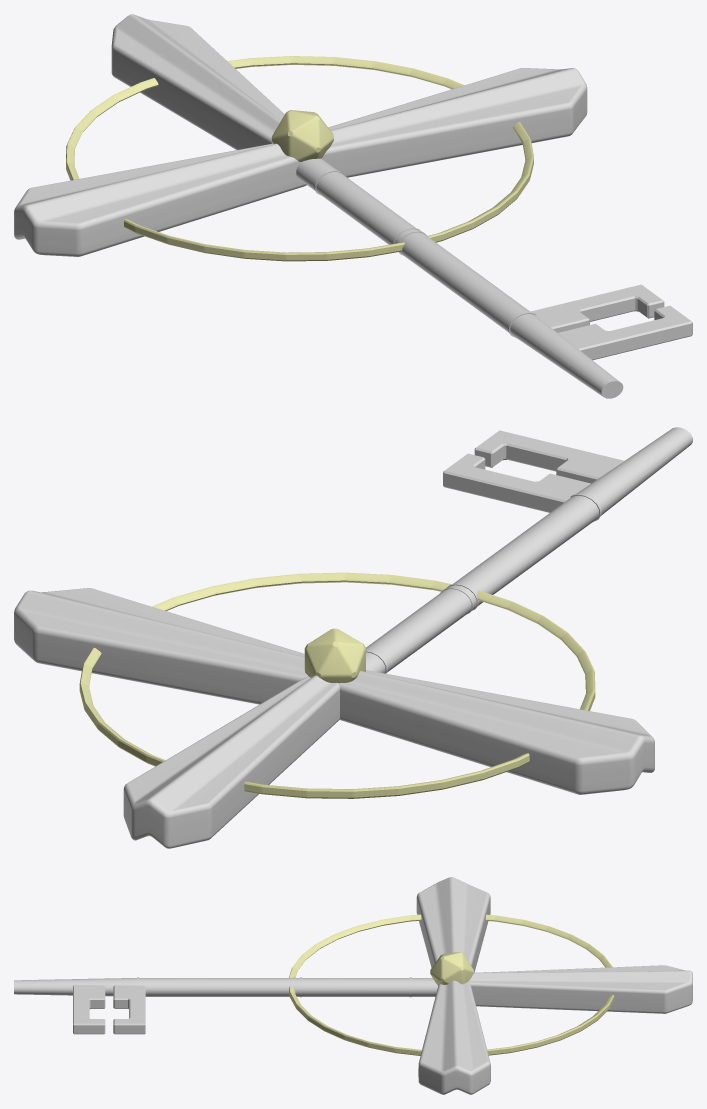
The model's file is key.fbx.
The picture shows the model from 3 angles, top to bottom: view 1: azimuth 30°, elevation 25°; view 2: azimuth 150°, elevation 25°; view 3: azimuth 270°, elevation 25°; orthographic projection. The views are drawn at different scales.
Parts seen in each view (by area): view 1: pCube38; view 2: pCube38; view 3: pCube38.
Part boxes in pixels (box(x1,y1,x2,y2)): pCube38: box(14, 14, 692, 398); pCube38: box(14, 427, 692, 848); pCube38: box(14, 877, 692, 1094).
Size of the model in its own units: 22.22 by 2.52 by 33.27.
